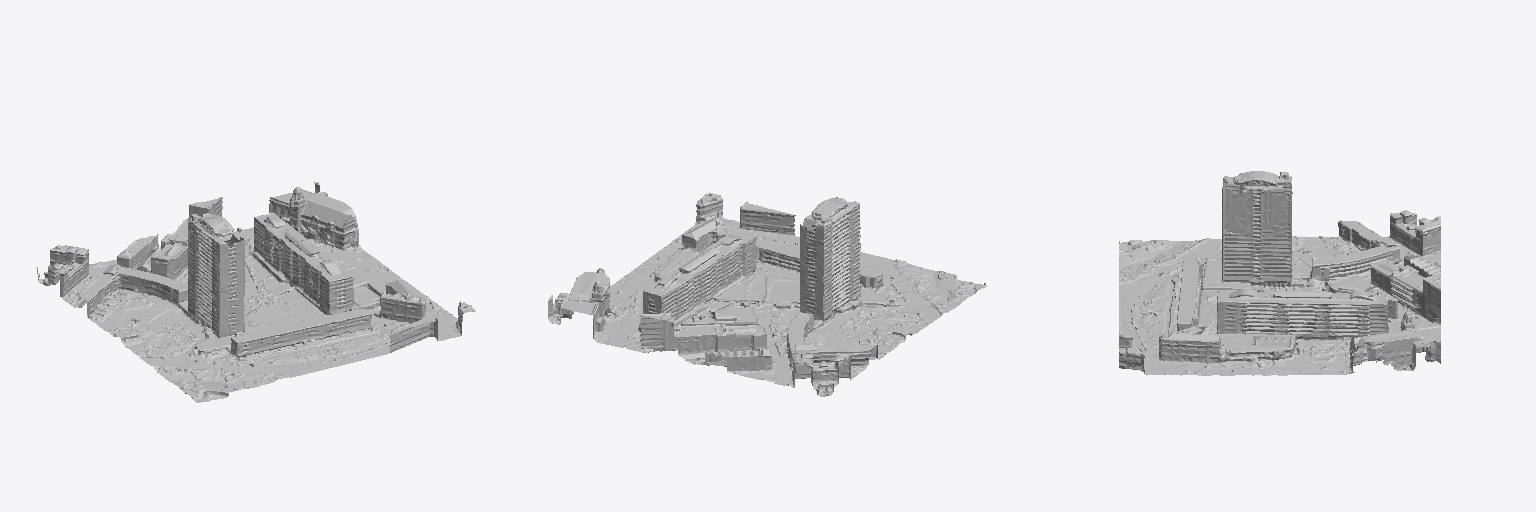
The model's file is IMU_sample_geometry.obj.
The picture shows the model from 3 angles: view 1: azimuth 30°, elevation 25°; view 2: azimuth 150°, elevation 25°; view 3: azimuth 270°, elevation 25°; orthographic projection.
Size of the model in its own units: 200 by 77.13 by 200.